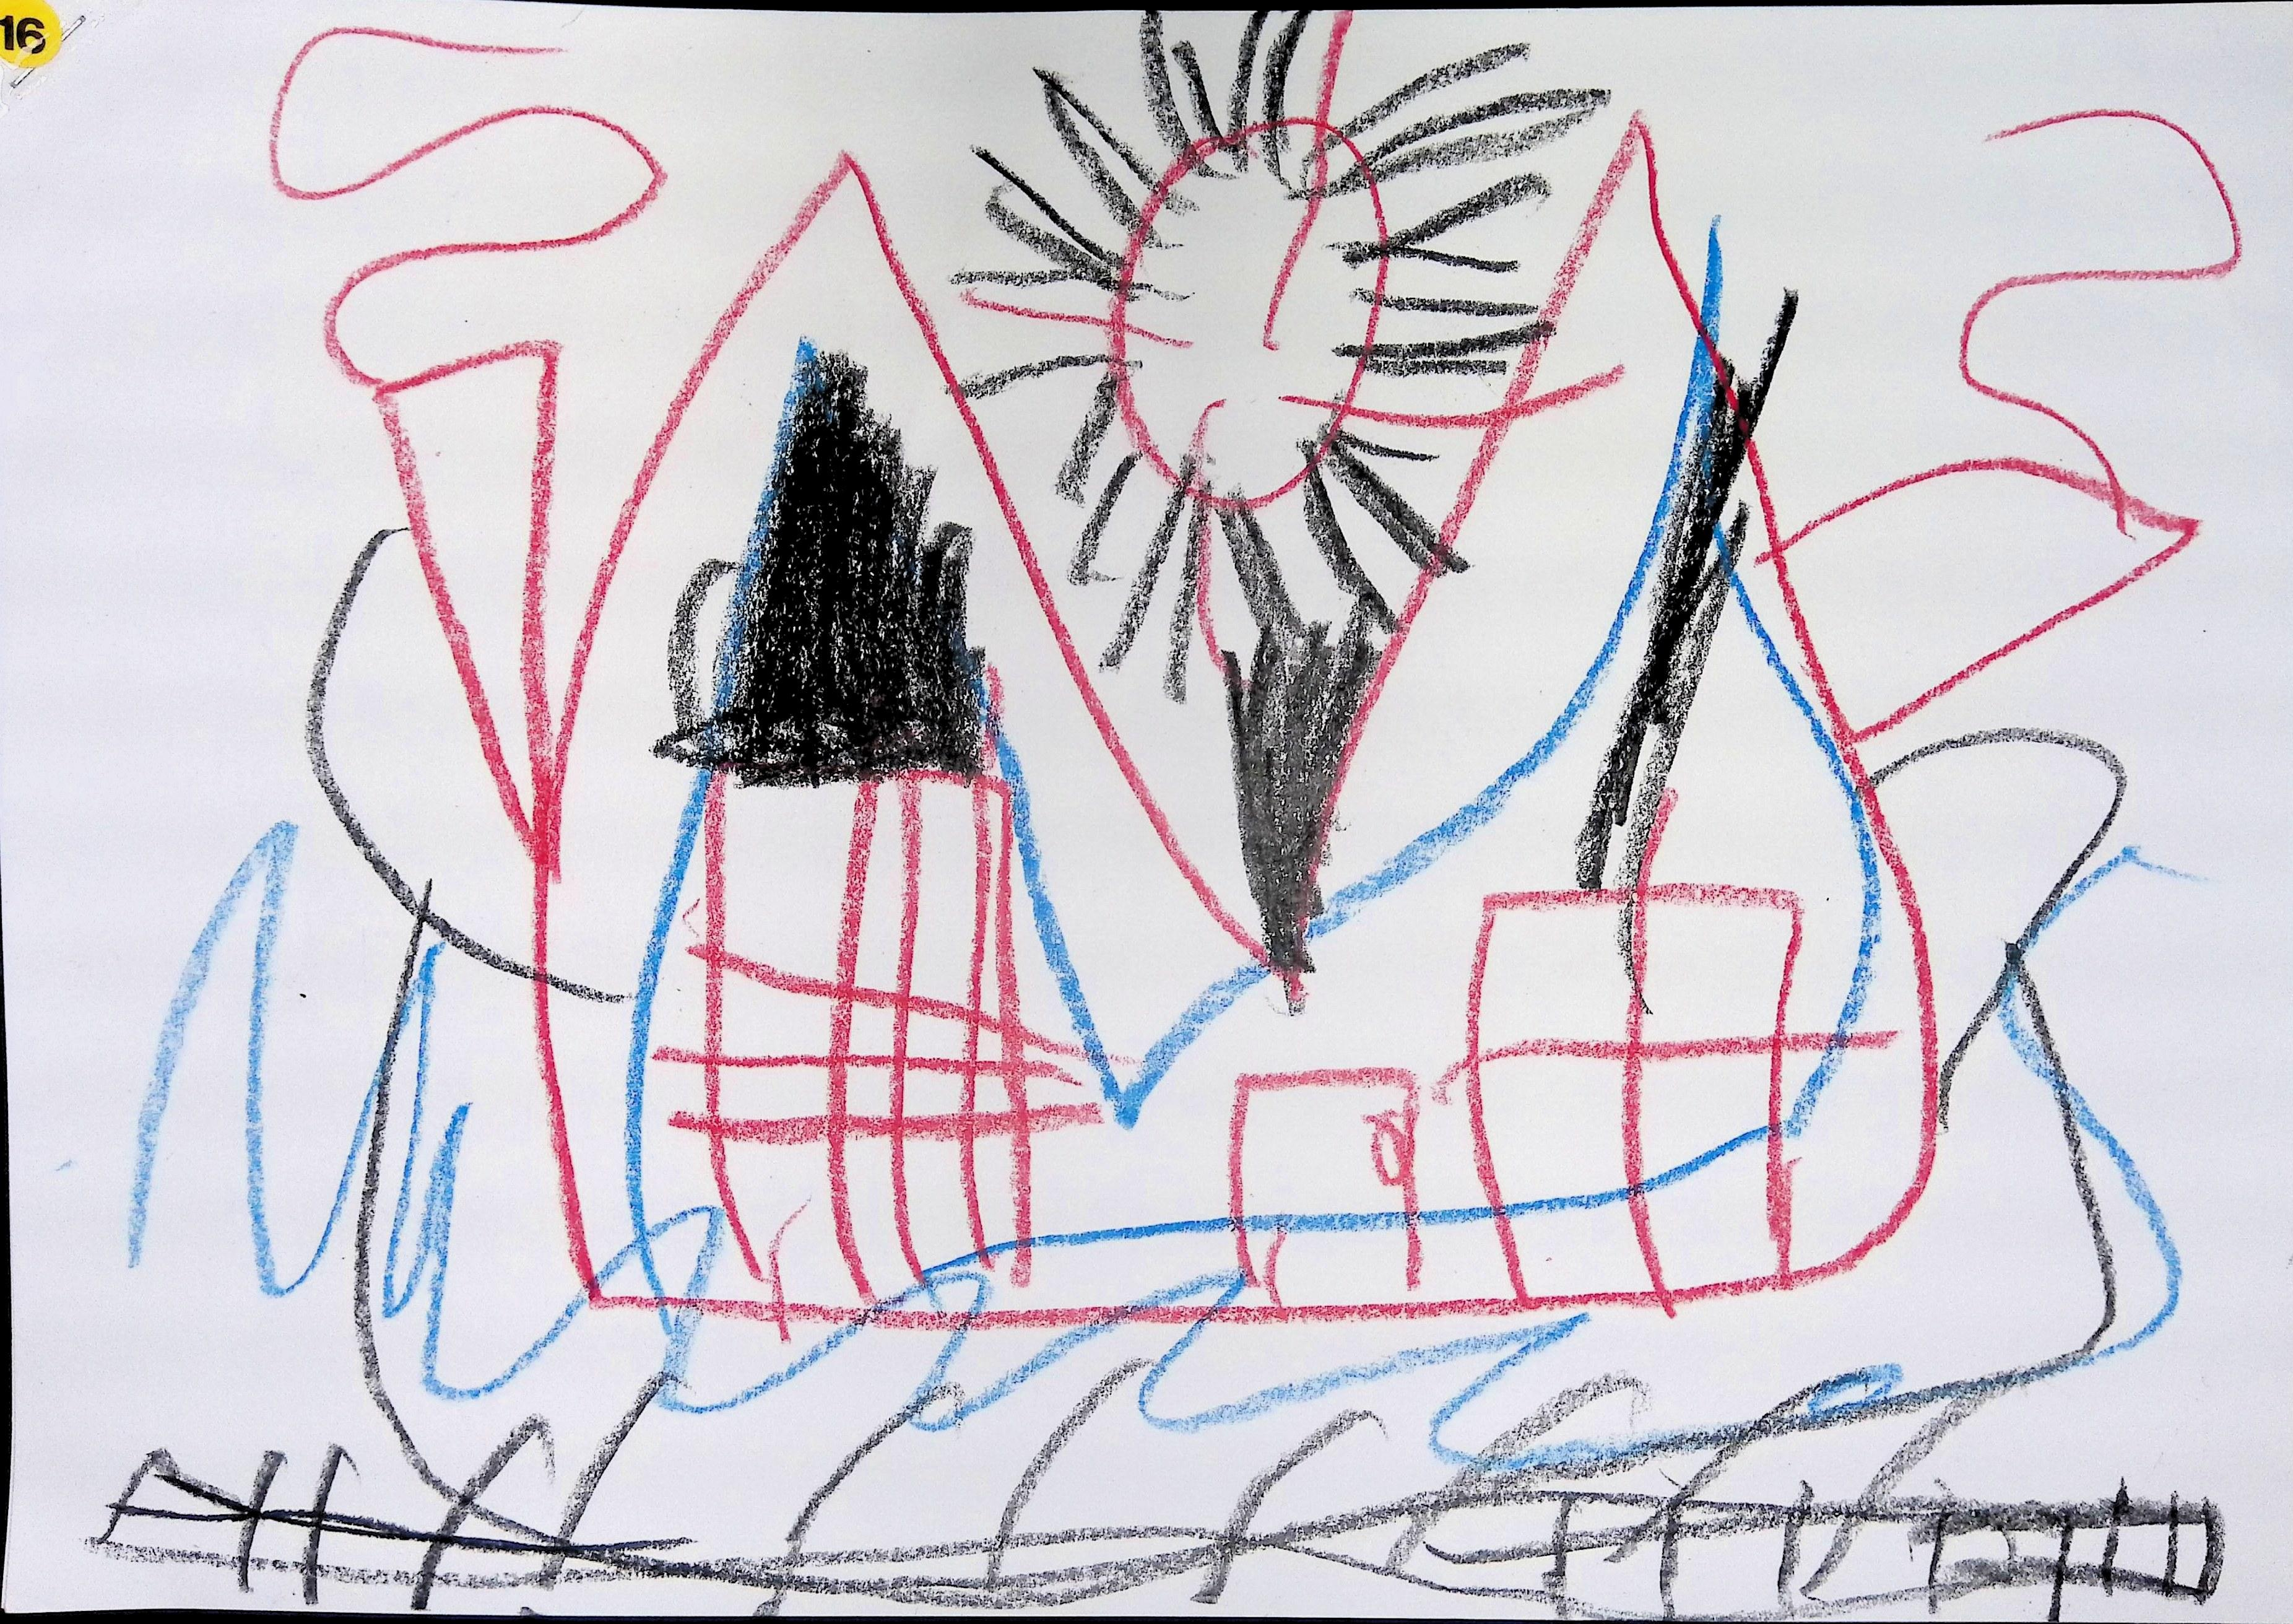chimney: (1775, 452, 2203, 752), (380, 334, 569, 888)
door: (1226, 1063, 1432, 1329)
house: (367, 104, 2207, 1341)
sun: (937, 0, 1645, 714)
window: (708, 758, 1026, 1329), (1471, 879, 1805, 1323)
